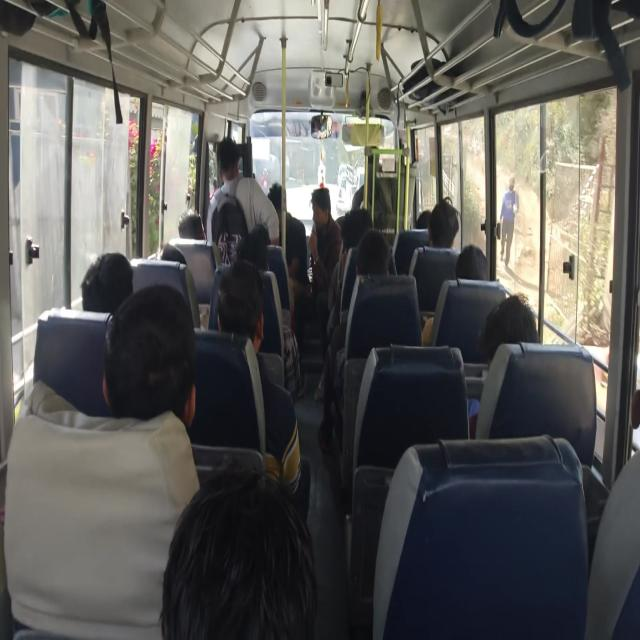person: (4, 282, 200, 638), (159, 459, 317, 639), (216, 259, 302, 498), (317, 229, 391, 452), (102, 283, 197, 429), (467, 293, 540, 438), (205, 136, 280, 256), (421, 244, 489, 346), (267, 182, 310, 296), (478, 293, 540, 364), (308, 186, 342, 292), (80, 251, 134, 314), (499, 175, 519, 266), (427, 198, 459, 250), (455, 244, 489, 281), (177, 208, 205, 240)
